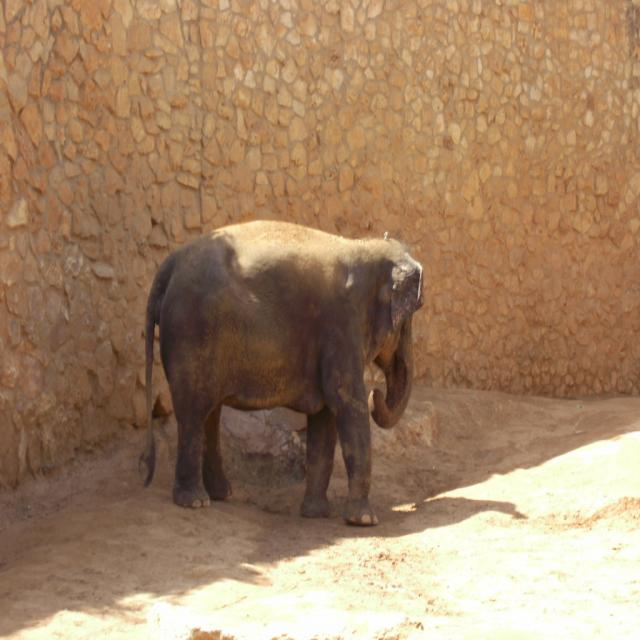Elephant: (128, 212, 406, 534)
